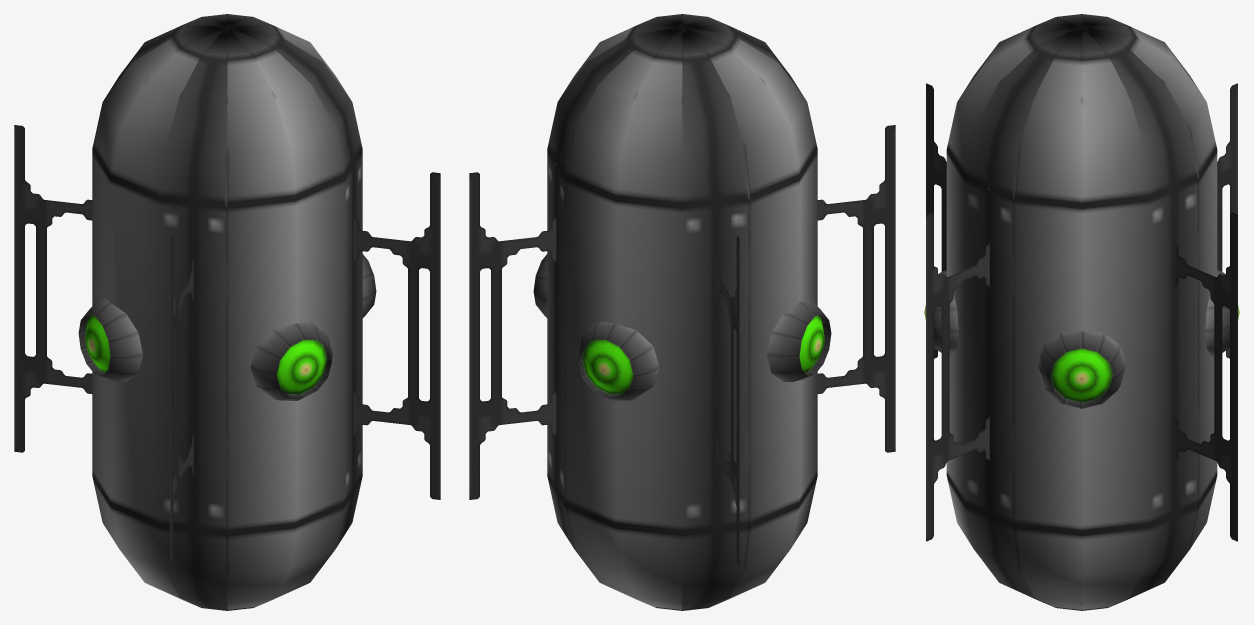
File: bot_prime_body.obj
3 renders of one model, left to right at view 1: azimuth 30°, elevation 25°; view 2: azimuth 150°, elevation 25°; view 3: azimuth 270°, elevation 25°, orthographic.
Parts seen in each view (by area): view 1: Cylinder; view 2: Cylinder; view 3: Cylinder.
Part boxes in pixels (box(x1,y1,x2,y2)): Cylinder: box(14, 14, 440, 610); Cylinder: box(469, 14, 895, 610); Cylinder: box(924, 14, 1239, 610).
Bounding box in the file's own units: 3.5 × 7 × 3.5.
